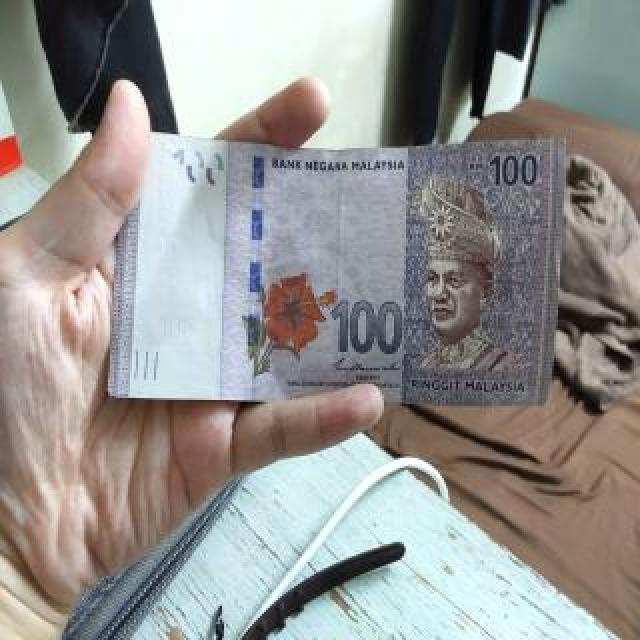100 Ringgit: (92, 140, 569, 422)
